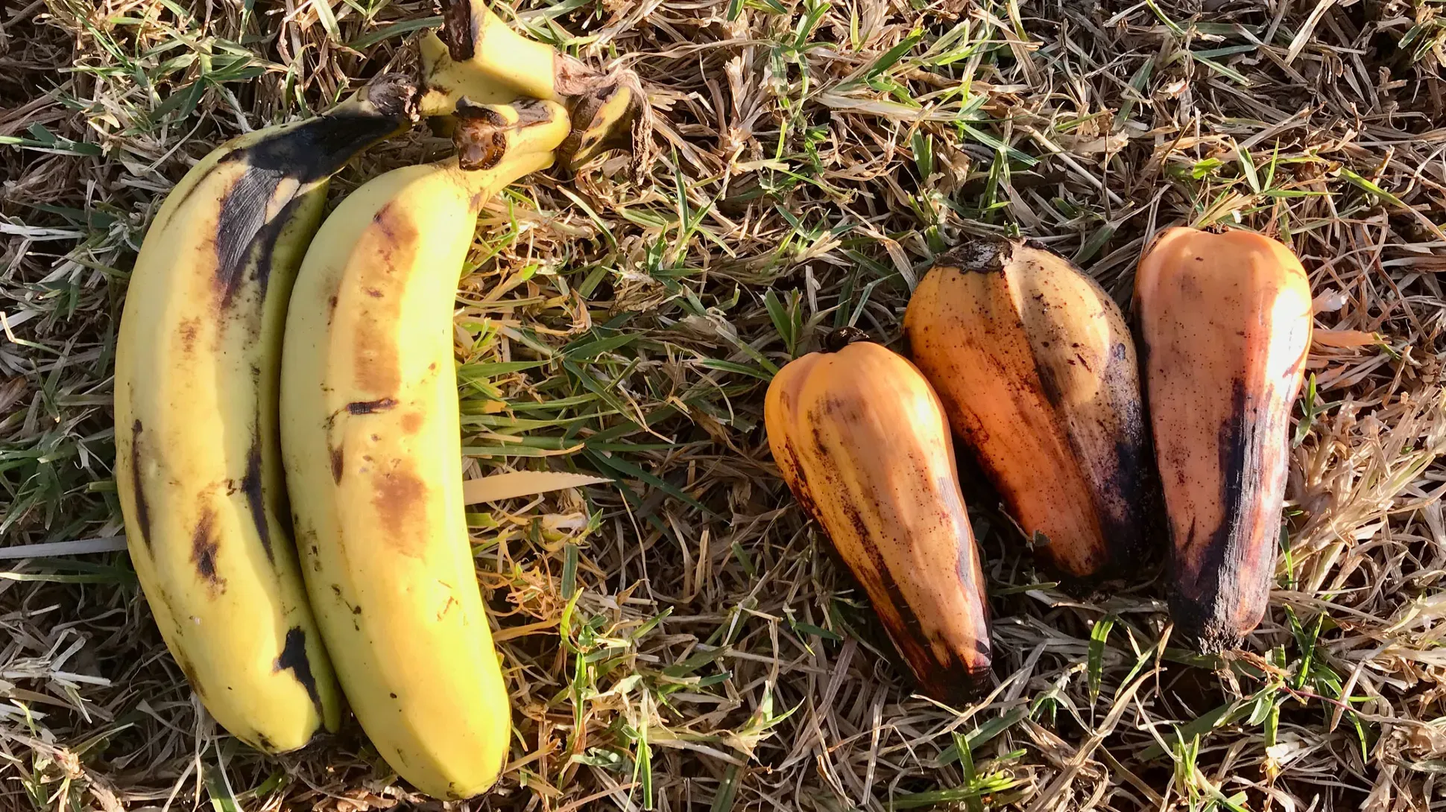banana: (101, 50, 592, 771)
